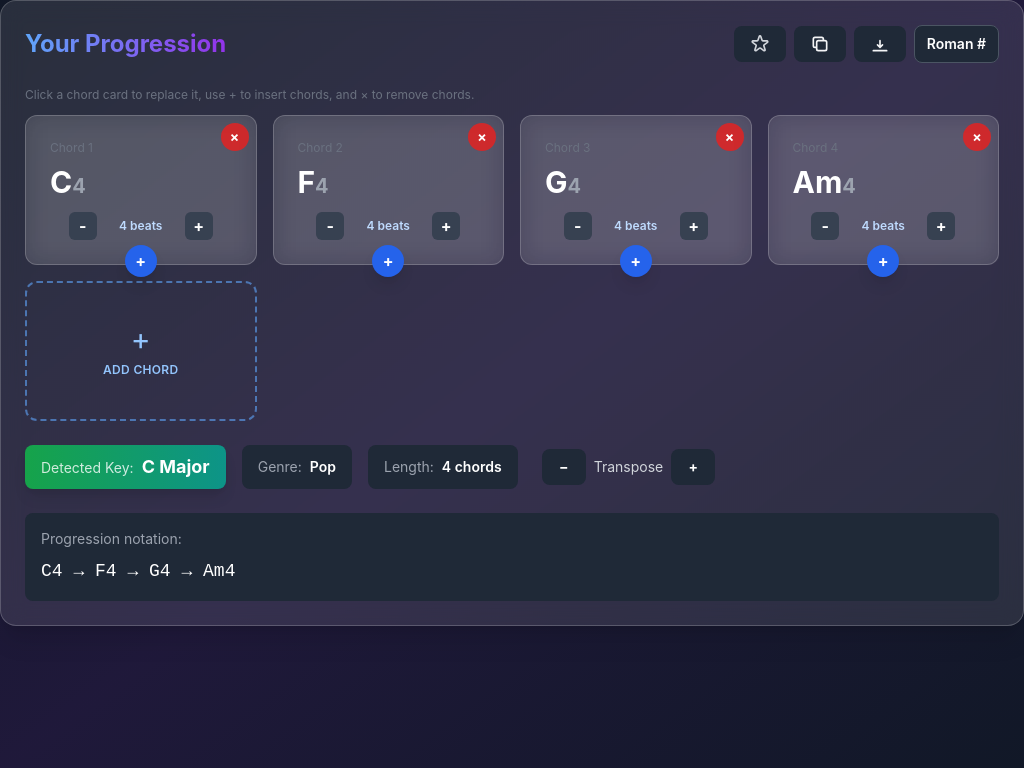
Test case: ProgressionDisplay › With Progression › should toggle roman numeral notation
The image size is (1024, 768).
Click the button "Roman #": (956, 44) [914, 25, 999, 63]
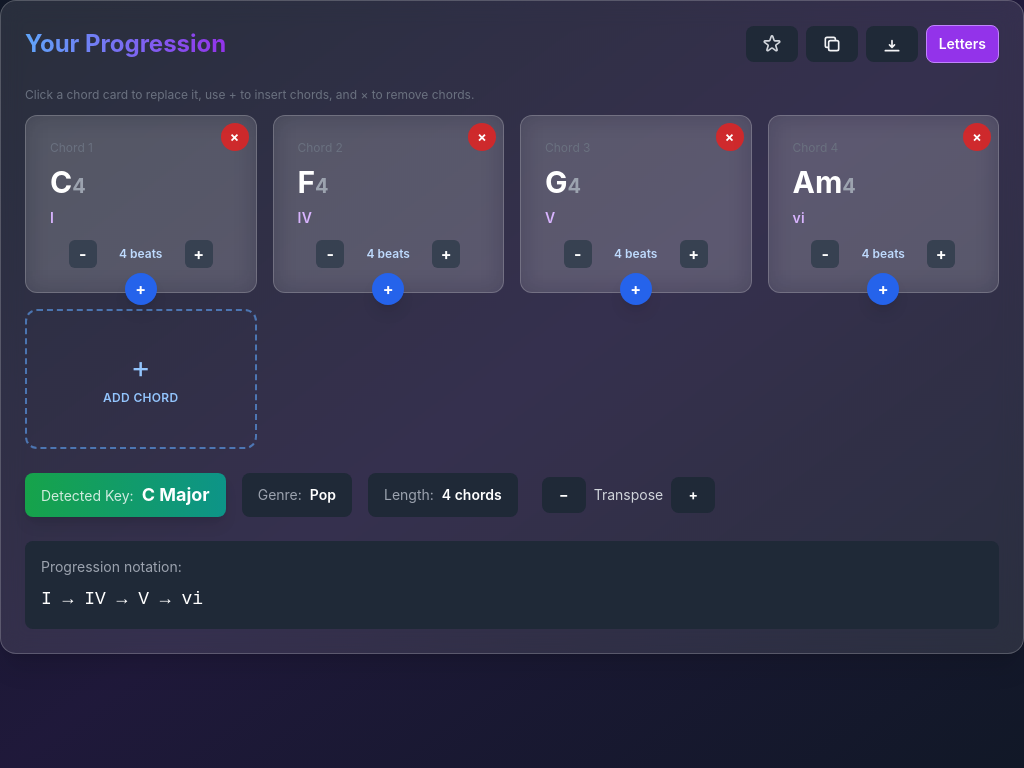
Expected: the text "I" is shown, [50, 209, 54, 226]
Expected: the text "IV" is shown, [298, 209, 312, 226]
